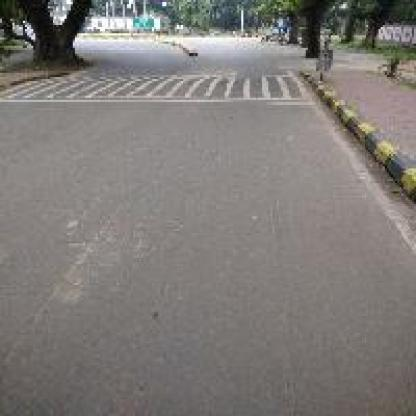Speed Bump: (0, 67, 314, 106)
